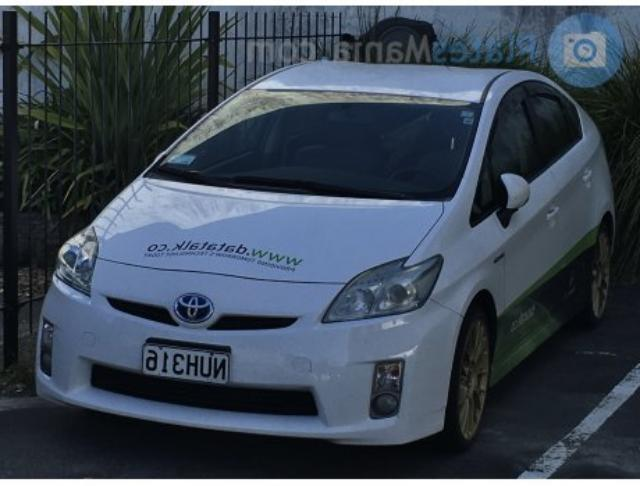Rego: (142, 345, 231, 386)
